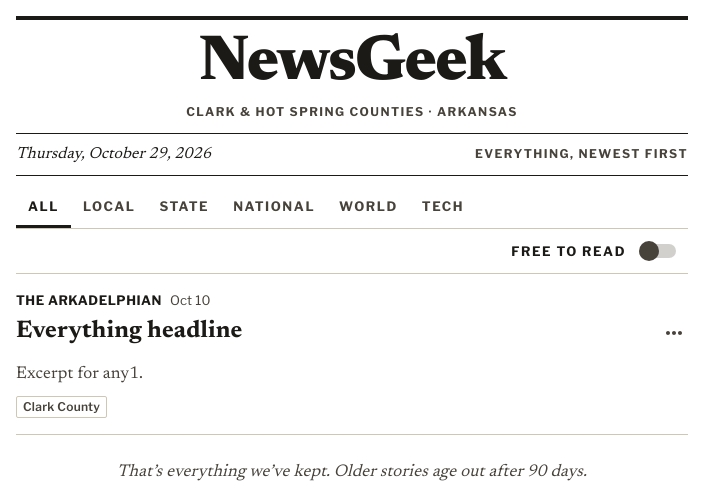
Scenario: Latest › a section tab asks the gateway for that section
The width and height of the screenshot is (705, 498).
Expected: the link "Everything headline" is shown, top-left (16, 319), bottom-right (242, 343)
Click the tab "Tech".
click(443, 206)  # box top-left (410, 184), bottom-right (476, 228)
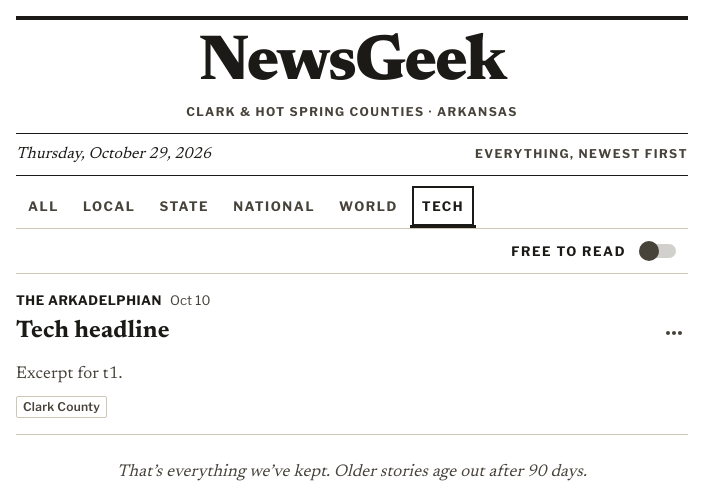
Expected: the link "Tech headline (opens at The Arkadelphian, in a new tab)" is shown, top-left (16, 319), bottom-right (170, 343)
